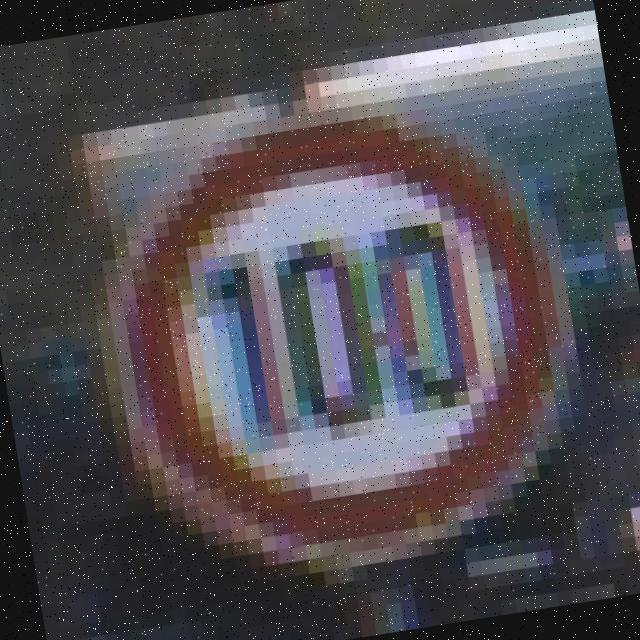Ograniczenie predkosci do 100: (97, 92, 581, 582)
